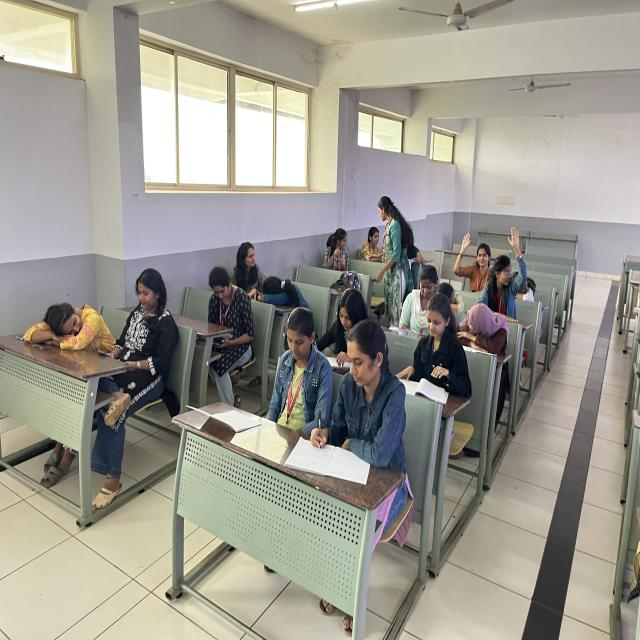Hand Rising: (486, 220, 528, 312), (453, 227, 495, 291)
Reading: (397, 291, 478, 400)
Sleeping: (16, 288, 125, 376), (450, 295, 520, 381), (244, 269, 318, 327)
Using Phone: (101, 261, 183, 418), (266, 304, 331, 436), (194, 260, 265, 376)
Writing: (289, 317, 415, 487), (300, 307, 405, 483)
